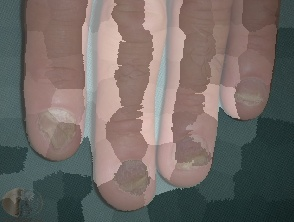Nail_psoriasis: (26, 90, 94, 160), (227, 71, 274, 116), (108, 156, 154, 197), (166, 132, 212, 173)
